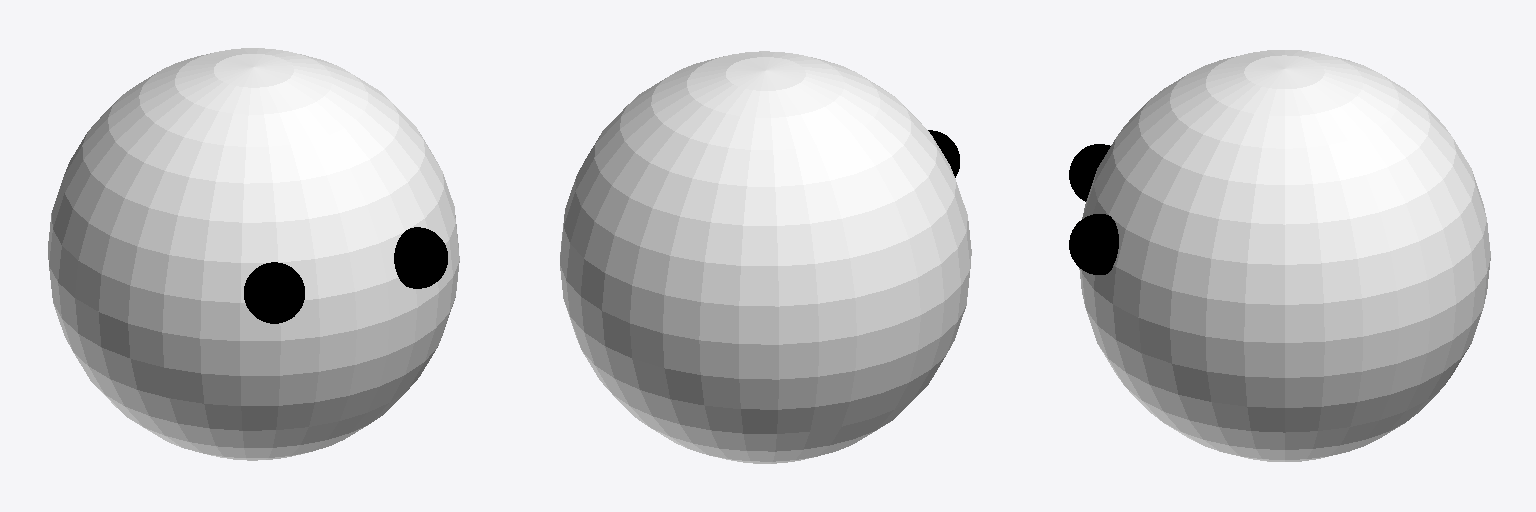
The picture shows the model from 3 angles: view 1: azimuth 30°, elevation 25°; view 2: azimuth 150°, elevation 25°; view 3: azimuth 270°, elevation 25°; orthographic projection.
Visible parts, largest first — view 1: ghost; view 2: ghost; view 3: ghost.
Boxes of the visible parts, box(x1,y1,x2,y2) form: ghost: box(48, 48, 459, 460); ghost: box(560, 51, 971, 463); ghost: box(1069, 50, 1490, 461).
Size of the model in its own units: 2 by 2 by 2.04.
Materials: 1 (1 with a texture image).